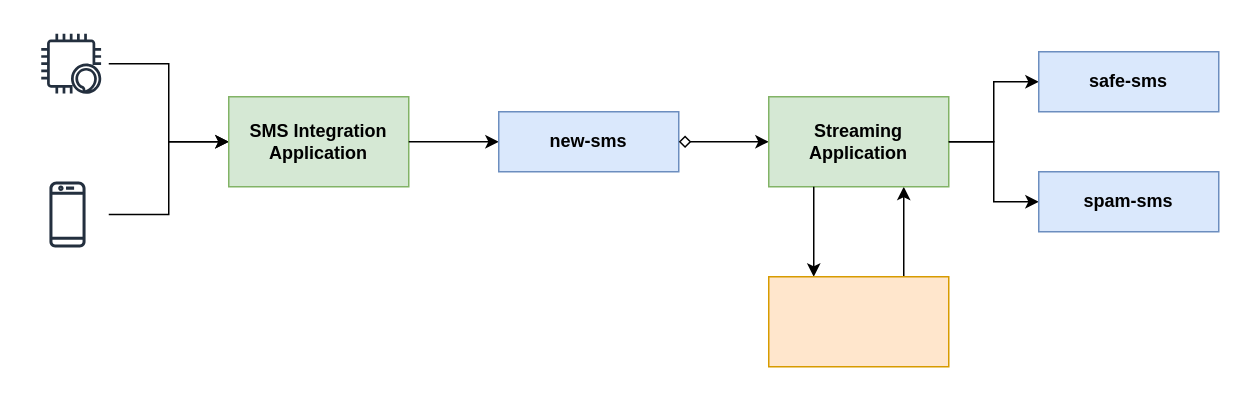
The diagram is 1245 pixels wide and 393 high, and some of its shapes have lost their labels. Here are the shapes that lost their labels. From the top down, the centre of each, then its label:
point 70,63: IoT-device
point 67,214: Mobile
point 858,321: Trained Deep Learning Model
